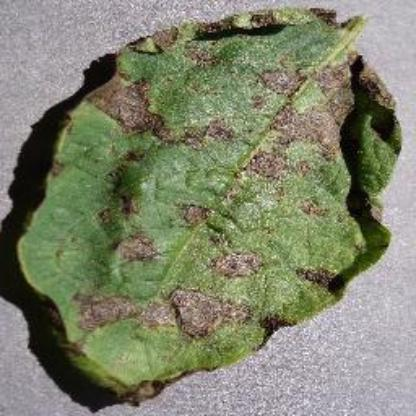Early-Blight: (15, 6, 395, 402)
